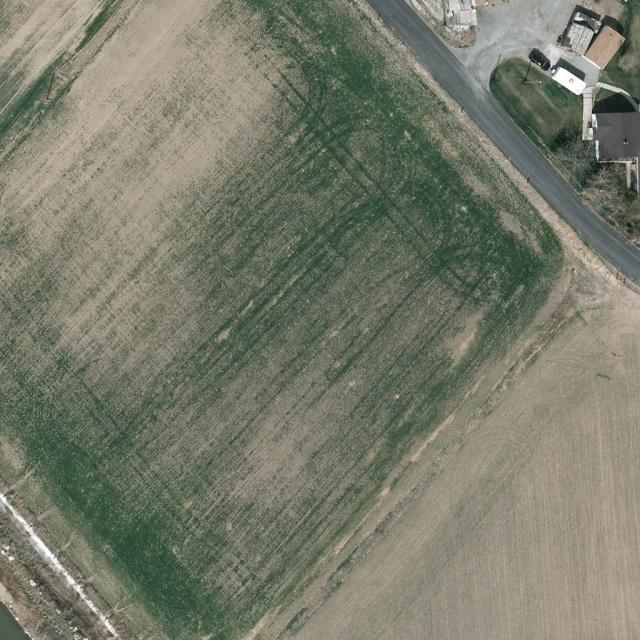vehicle: (528, 52, 553, 72)
